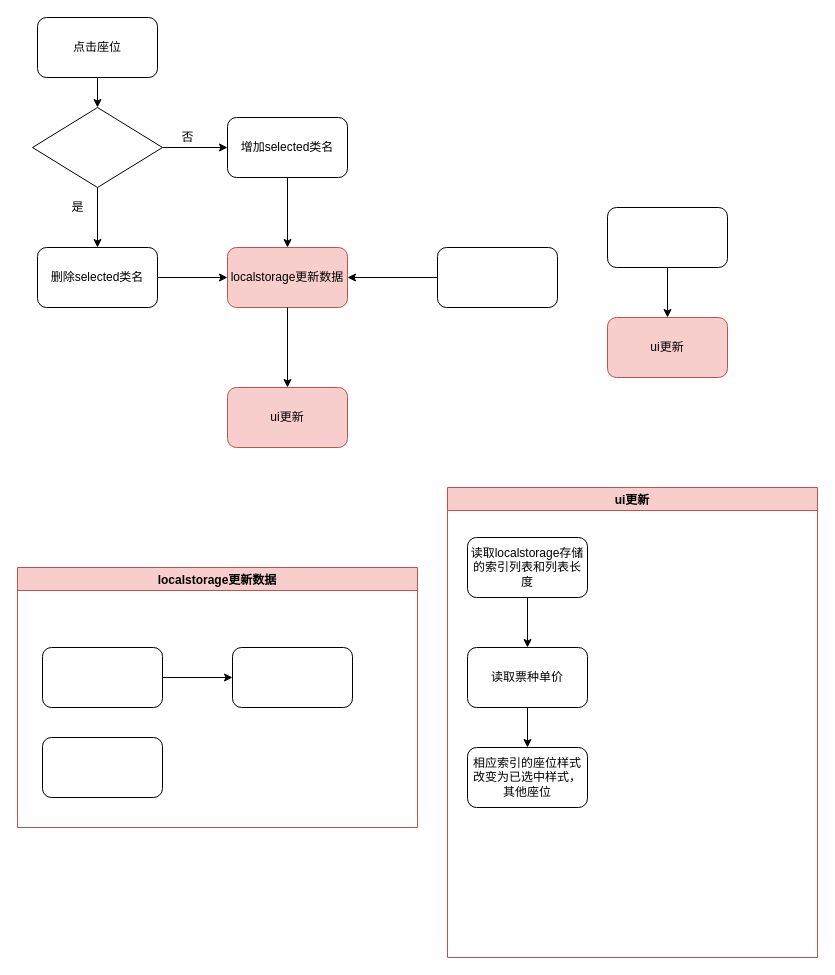
This 835x975 diagram has some shape labels left out. Here are the shapes that lost their labels. From the top down, the centre of each, then its label:
At pixel 97 147: "判断是否有selected类".
At pixel 667 237: "页面初始加载".
At pixel 497 277: "选取票种".
At pixel 102 677: "统计有selected类名的元素的索引的列表并存储".
At pixel 292 677: "统计该列表的长度并存储".
At pixel 102 767: "存储所选的票种的单价".
